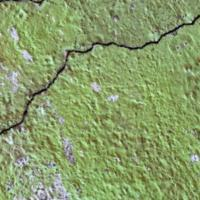crack: (0, 13, 199, 158)
